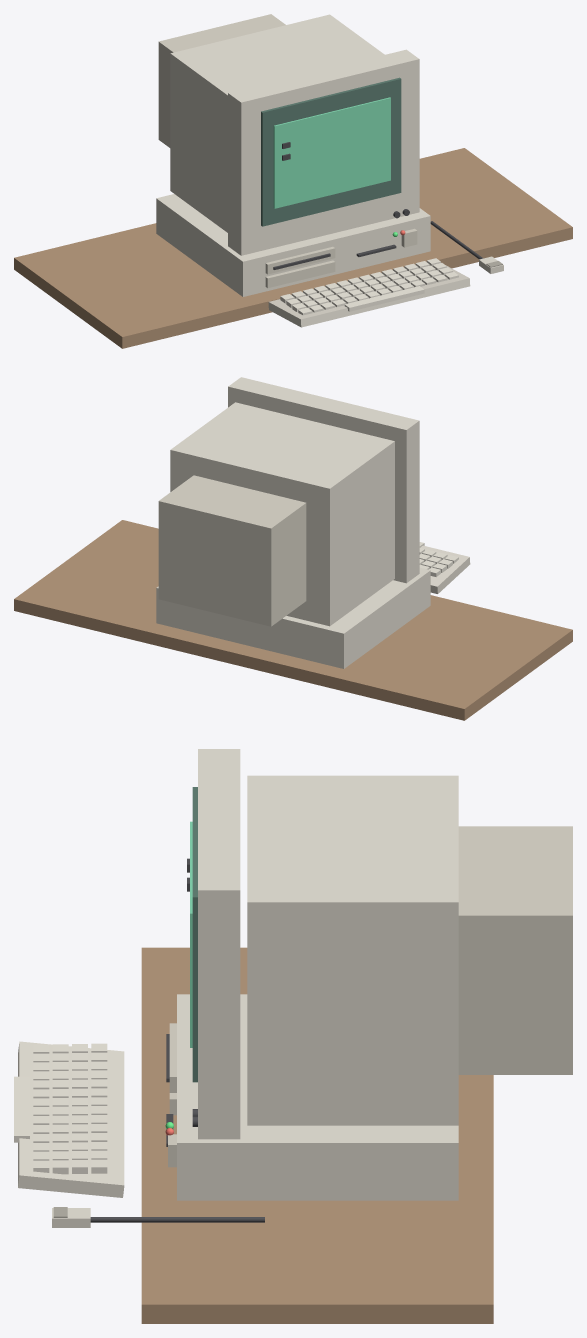
Rendered from old_pc.glb.
3 renders of one model, top to bottom at view 1: azimuth 30°, elevation 25°; view 2: azimuth 150°, elevation 25°; view 3: azimuth 270°, elevation 25°, orthographic. The views are drawn at different scales.
Parts seen in each view (by area): view 1: part_0, part_9, part_11, part_1, part_13, part_12, part_10, part_19, part_4, part_2, part_76; view 2: part_0, part_9, part_10, part_1, part_11, part_19; view 3: part_9, part_0, part_10, part_1, part_11, part_19, part_12, part_79, part_76.
Part boxes in pixels (x1,y1,x2,y2): part_0: (14, 148, 572, 348); part_9: (170, 14, 384, 232); part_11: (228, 49, 419, 255); part_1: (156, 194, 430, 296); part_13: (273, 97, 390, 208); part_12: (261, 77, 401, 226); part_10: (158, 14, 285, 147); part_19: (268, 265, 470, 327); part_4: (265, 260, 335, 288); part_2: (265, 246, 335, 274); part_76: (344, 286, 424, 311); part_0: (14, 520, 572, 720); part_9: (170, 402, 394, 626); part_10: (158, 475, 306, 626); part_1: (156, 567, 430, 668); part_11: (228, 377, 419, 583); part_19: (420, 545, 470, 593); part_9: (247, 775, 458, 1125); part_0: (141, 947, 493, 1323); part_10: (458, 826, 572, 1074); part_1: (177, 994, 458, 1200); part_11: (198, 749, 240, 1139); part_19: (18, 1041, 124, 1197); part_12: (192, 787, 197, 1082); part_79: (90, 1217, 264, 1222); part_76: (14, 1076, 29, 1142).
Size of the model in its own units: 2.4 by 1.02 by 1.59.
